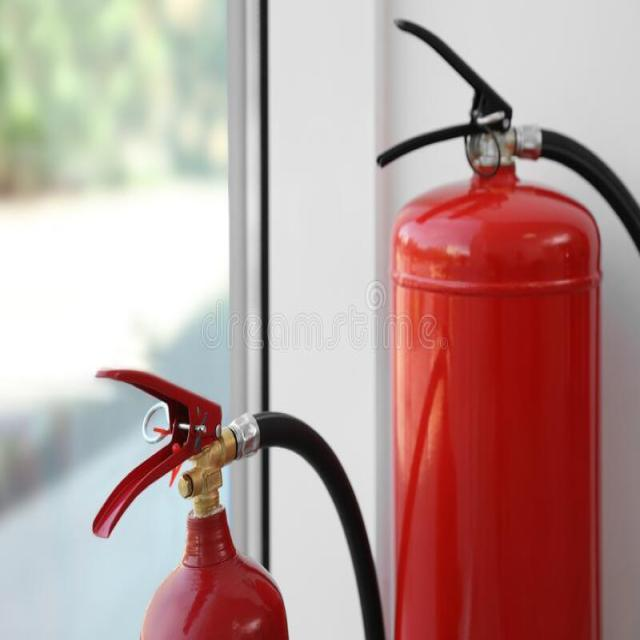fire_extinguisher: (371, 13, 639, 639), (88, 365, 390, 639)
